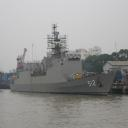Fragata: (9, 19, 120, 97)
